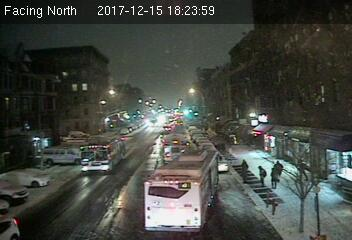bus: (79, 138, 126, 172)
pedestrian: (271, 165, 281, 189), (241, 158, 249, 185), (257, 164, 266, 187)
truck: (162, 134, 190, 166)
